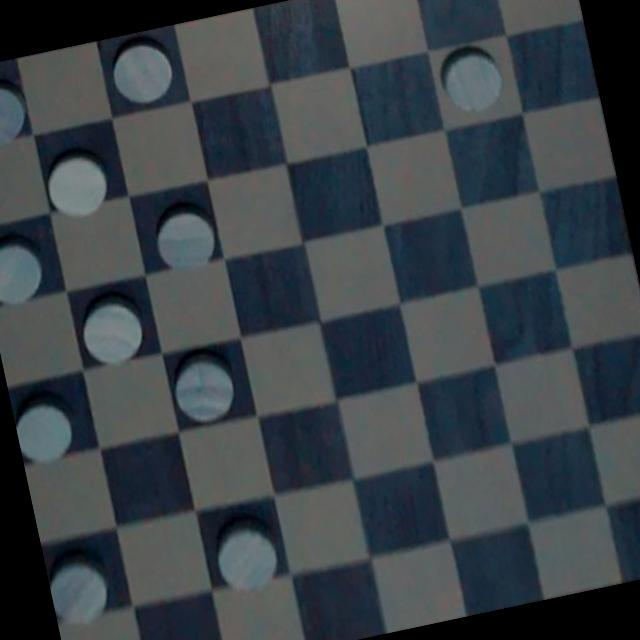BOARD: (0, 0, 640, 640)
white: (8, 374, 94, 474), (42, 537, 127, 638), (206, 504, 293, 602), (160, 344, 248, 431), (72, 284, 152, 378), (144, 192, 228, 280), (100, 28, 182, 114), (39, 143, 119, 225), (439, 39, 511, 121), (0, 229, 56, 320), (0, 63, 38, 164)
